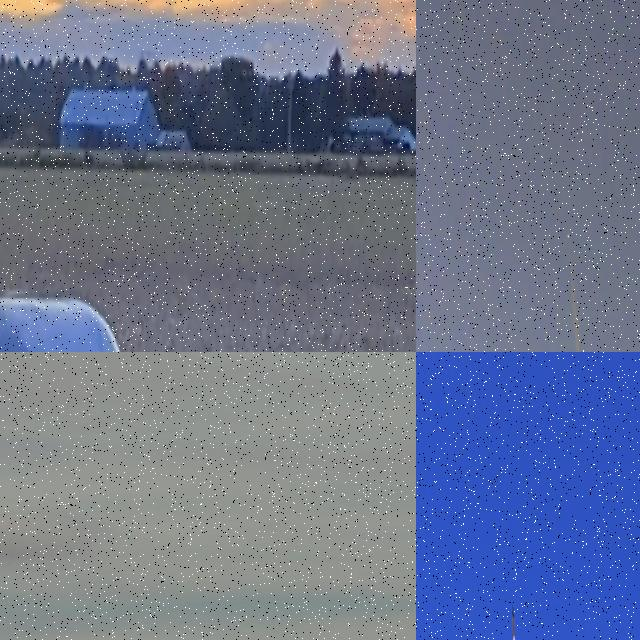Rocket: (511, 605, 516, 637), (567, 234, 570, 238)
